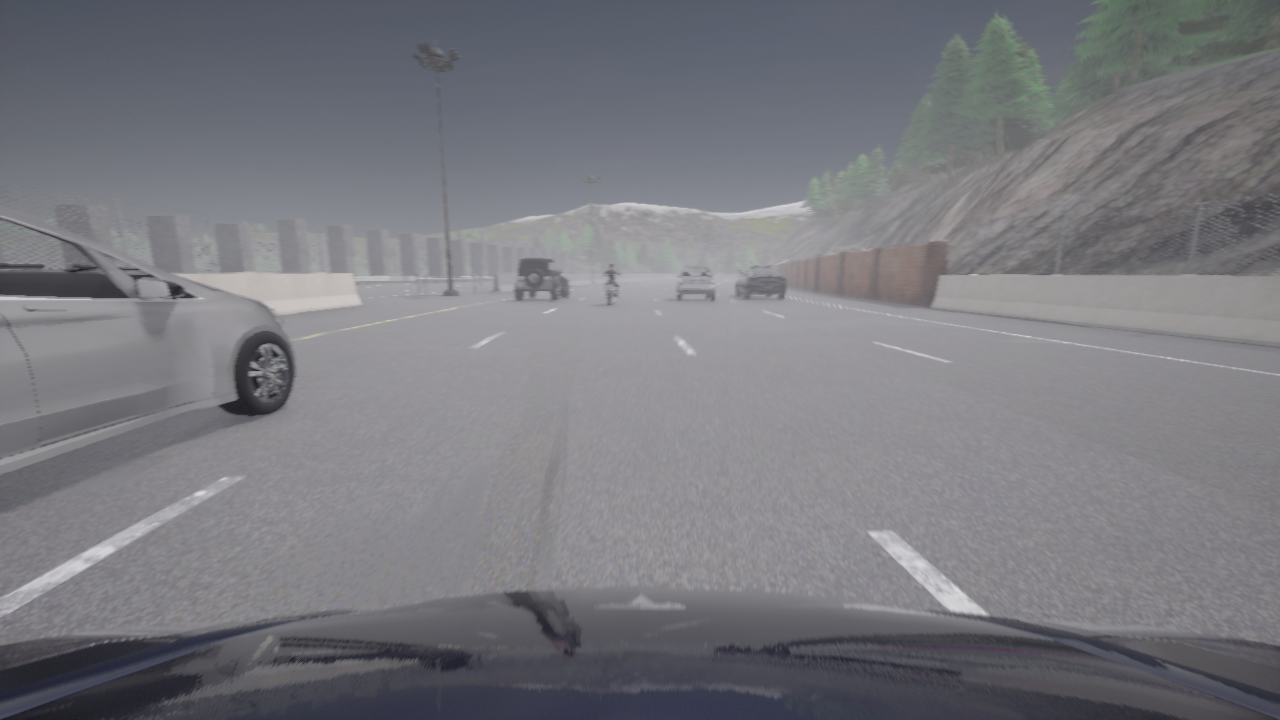cyclist: (0, 588, 1279, 719), (513, 258, 568, 300), (736, 266, 785, 298), (675, 265, 715, 301), (604, 272, 621, 306)
